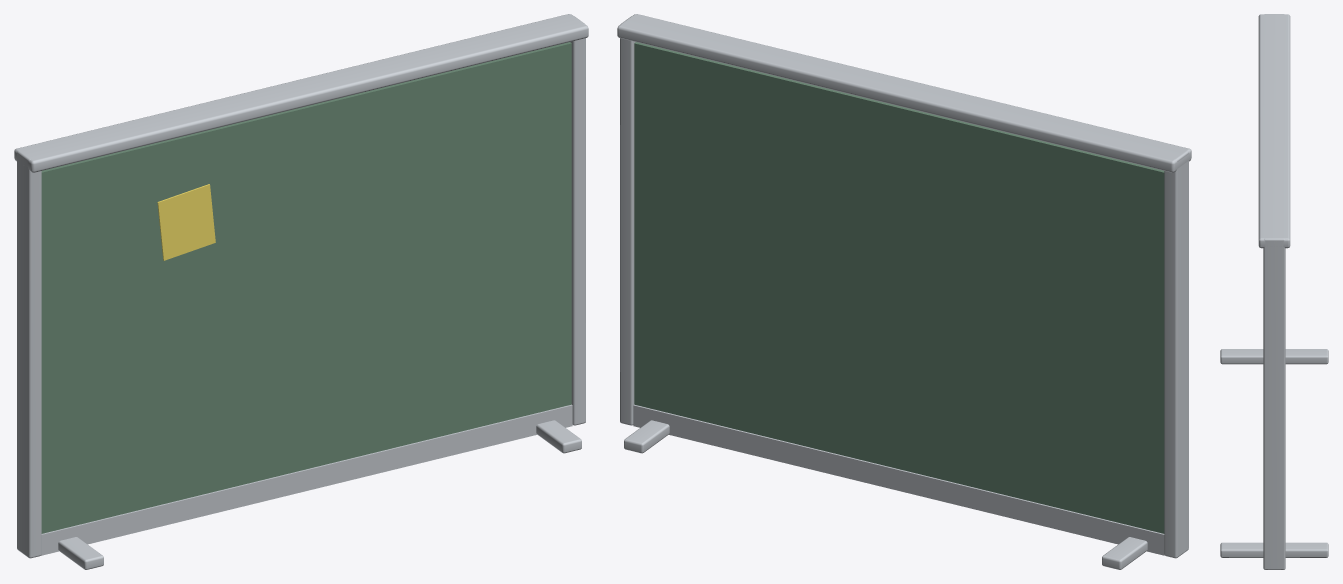
File: CubicleSide.fbx
3 renders of one model, left to right at view 1: azimuth 30°, elevation 25°; view 2: azimuth 150°, elevation 25°; view 3: azimuth 270°, elevation 25°, orthographic. The views are drawn at different scales.
Parts seen in each view (by area): view 1: Fabric, CubicleSideBody; view 2: Fabric, CubicleSideBody; view 3: CubicleSideBody.
Part boxes in pixels (bbox=[...]): Fabric: bbox=[41, 42, 571, 533]; CubicleSideBody: bbox=[14, 14, 588, 569]; Fabric: bbox=[634, 42, 1164, 533]; CubicleSideBody: bbox=[617, 14, 1191, 569]; CubicleSideBody: bbox=[1220, 14, 1328, 569].
Size of the model in its own units: 1.68 by 1.15 by 0.34.
